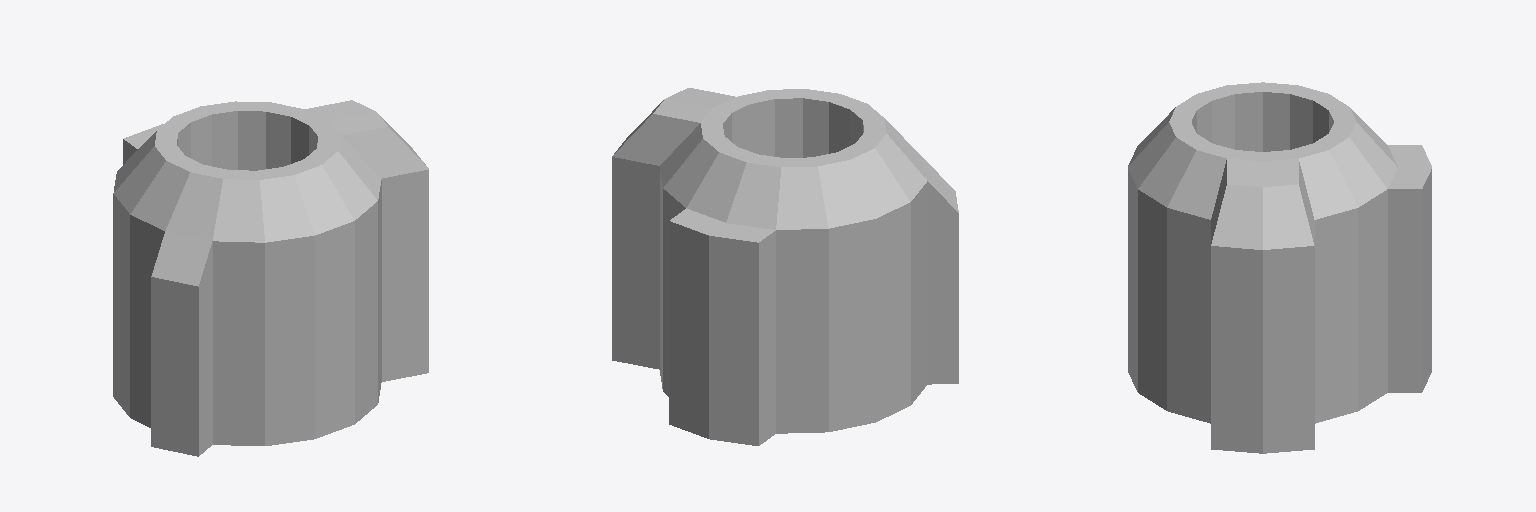
File: borehole.obj
3 renders of one model, left to right at view 1: azimuth 30°, elevation 25°; view 2: azimuth 150°, elevation 25°; view 3: azimuth 270°, elevation 25°, orthographic.
Parts seen in each view (by area): view 1: Cylinder; view 2: Cylinder; view 3: Cylinder.
Boxes of the visible parts, <box> form: Cylinder: <box>113,100,428,456</box>; Cylinder: <box>612,88,958,445</box>; Cylinder: <box>1128,82,1431,453</box>.
Size of the model in its own units: 38.35 by 31.15 by 34.25.